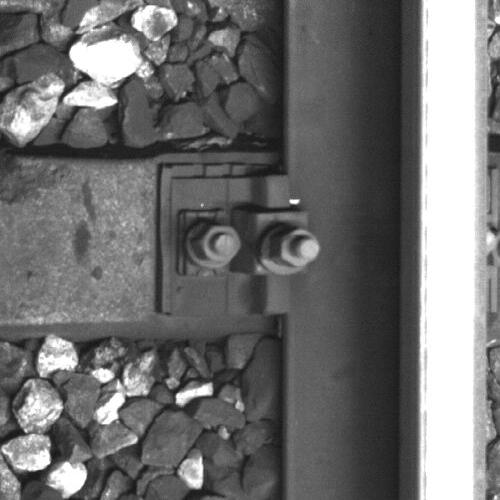kb: (172, 176, 320, 316)
nut: (270, 226, 321, 268), (190, 223, 242, 262)
rail: (419, 1, 485, 500)
tie_concr: (1, 156, 282, 320)
